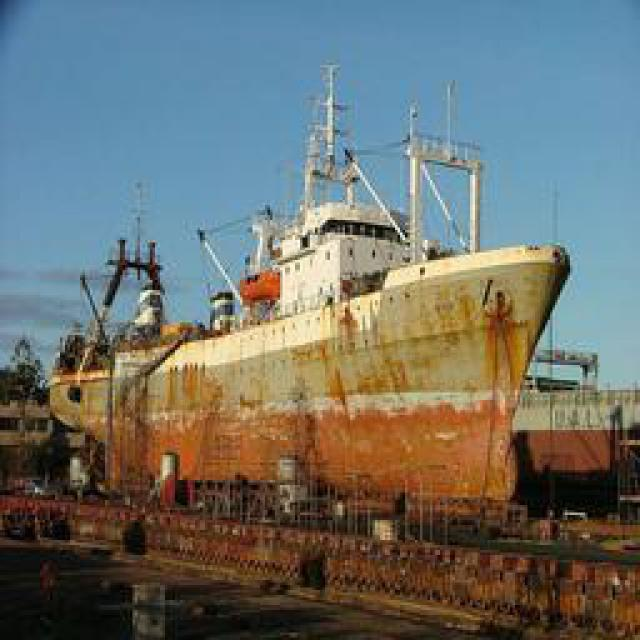Ship: (40, 102, 585, 520)
